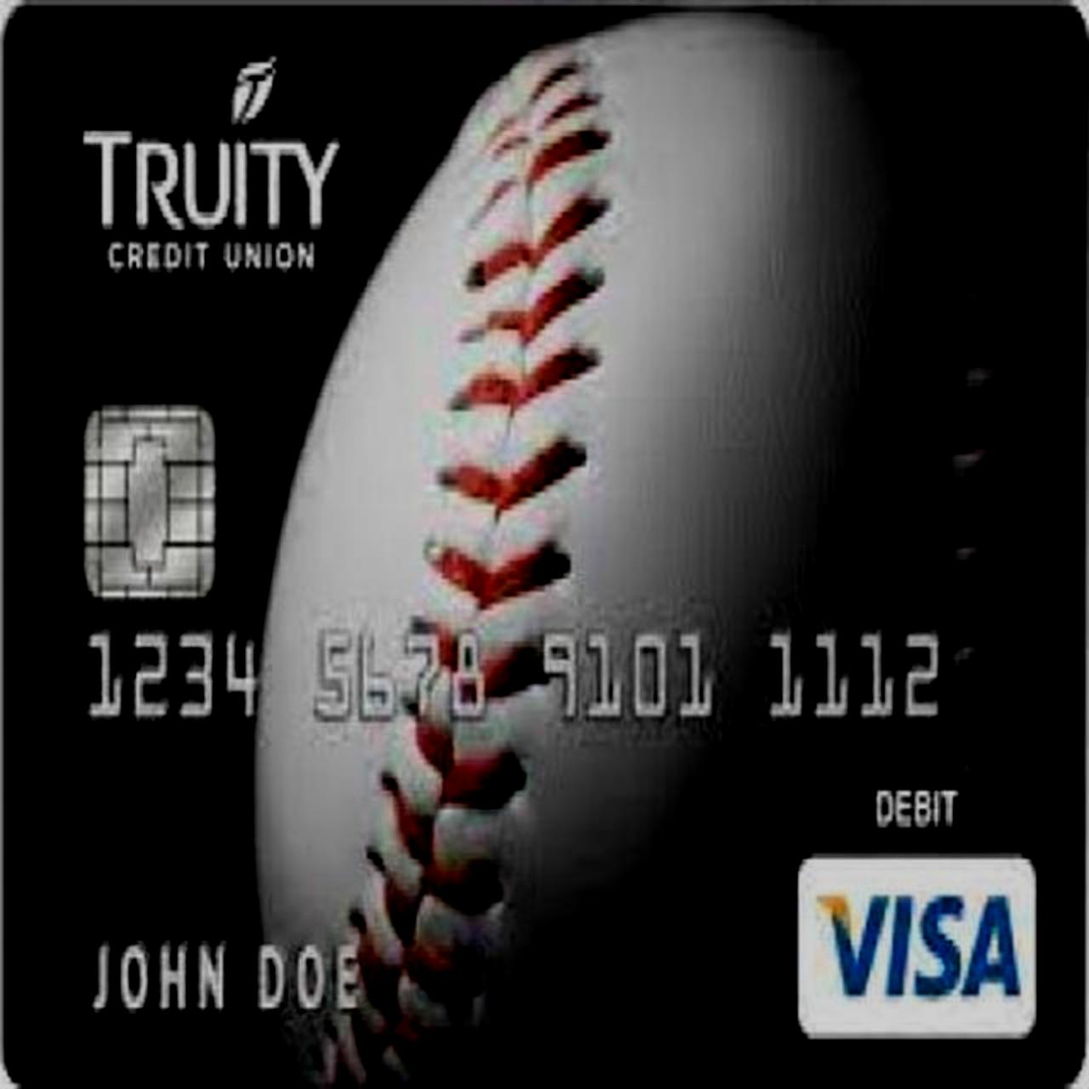credit_card: (3, 10, 1089, 1089)
